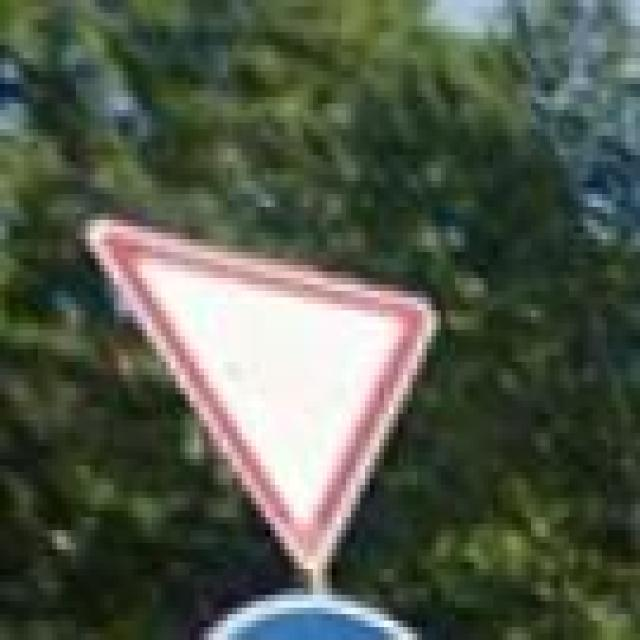give_way: (80, 207, 441, 569)
